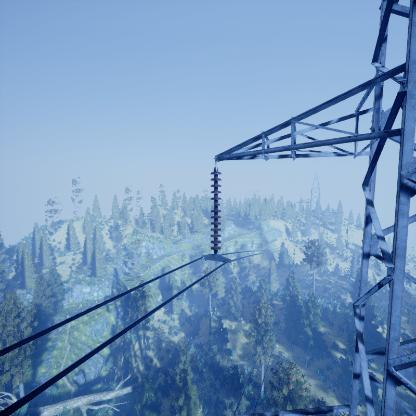insulator: (209, 170, 223, 255)
